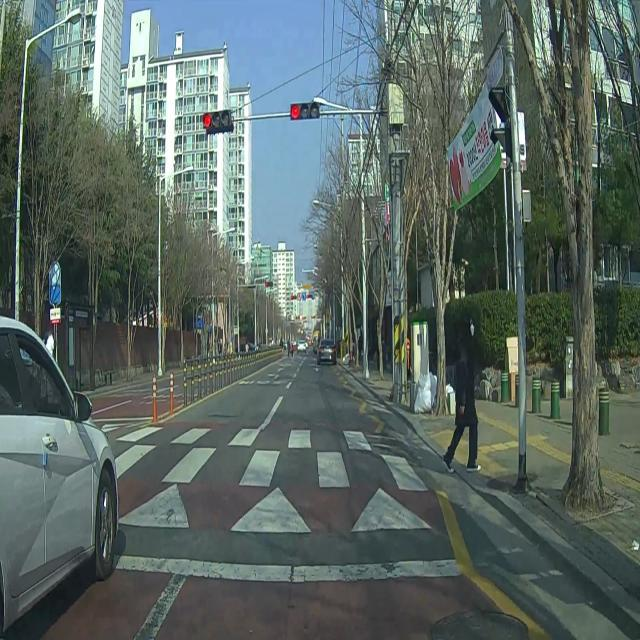crosswalk: (109, 425, 447, 498)
